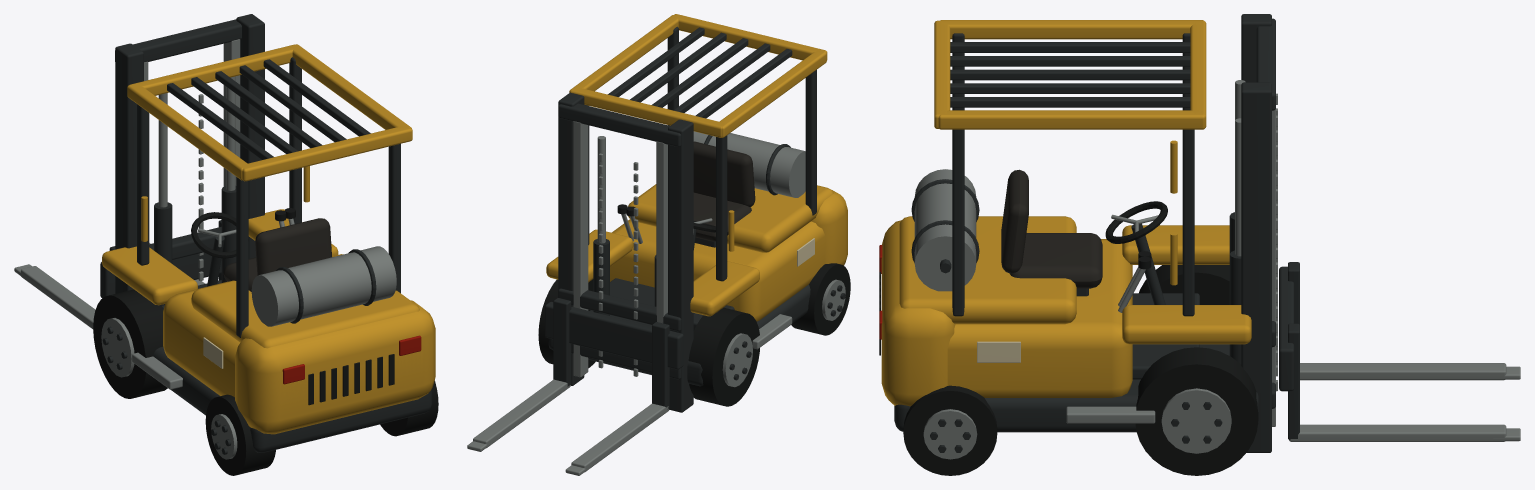
The model's file is noir-forklift.glb.
3 views of the same model, side by side, from view 1: azimuth 30°, elevation 25°; view 2: azimuth 150°, elevation 25°; view 3: azimuth 270°, elevation 25° (orthographic). The views are drawn at different scales.
Parts seen in each view (by area): view 1: forklift-yellow, yard-painted-steel.002, yard-machined-steel.001, yard-rubber.001, yard-seat-vinyl, yard-red-lens; view 2: yard-painted-steel.002, forklift-yellow, yard-machined-steel.001, yard-rubber.001, yard-seat-vinyl; view 3: forklift-yellow, yard-painted-steel.002, yard-machined-steel.001, yard-rubber.001, yard-seat-vinyl, yard-label.
Boxes of the visible parts, <box> form: forklift-yellow: <box>102,44,435,434</box>; yard-painted-steel.002: <box>100,14,432,454</box>; yard-machined-steel.001: <box>14,39,396,459</box>; yard-rubber.001: <box>93,208,438,475</box>; yard-seat-vinyl: <box>223,218,331,291</box>; yard-red-lens: <box>282,335,421,384</box>; yard-painted-steel.002: <box>545,26,845,412</box>; forklift-yellow: <box>546,14,847,321</box>; yard-machined-steel.001: <box>467,121,845,475</box>; yard-rubber.001: <box>538,204,850,406</box>; yard-seat-vinyl: <box>693,141,755,241</box>; forklift-yellow: <box>881,20,1251,406</box>; yard-painted-steel.002: <box>894,14,1299,452</box>; yard-machined-steel.001: <box>914,80,1520,459</box>; yard-rubber.001: <box>879,201,1258,475</box>; yard-seat-vinyl: <box>1001,169,1102,288</box>; yard-label: <box>977,341,1020,362</box>.
Bounding box in the file's own units: 1.69 × 2.51 × 3.96.
